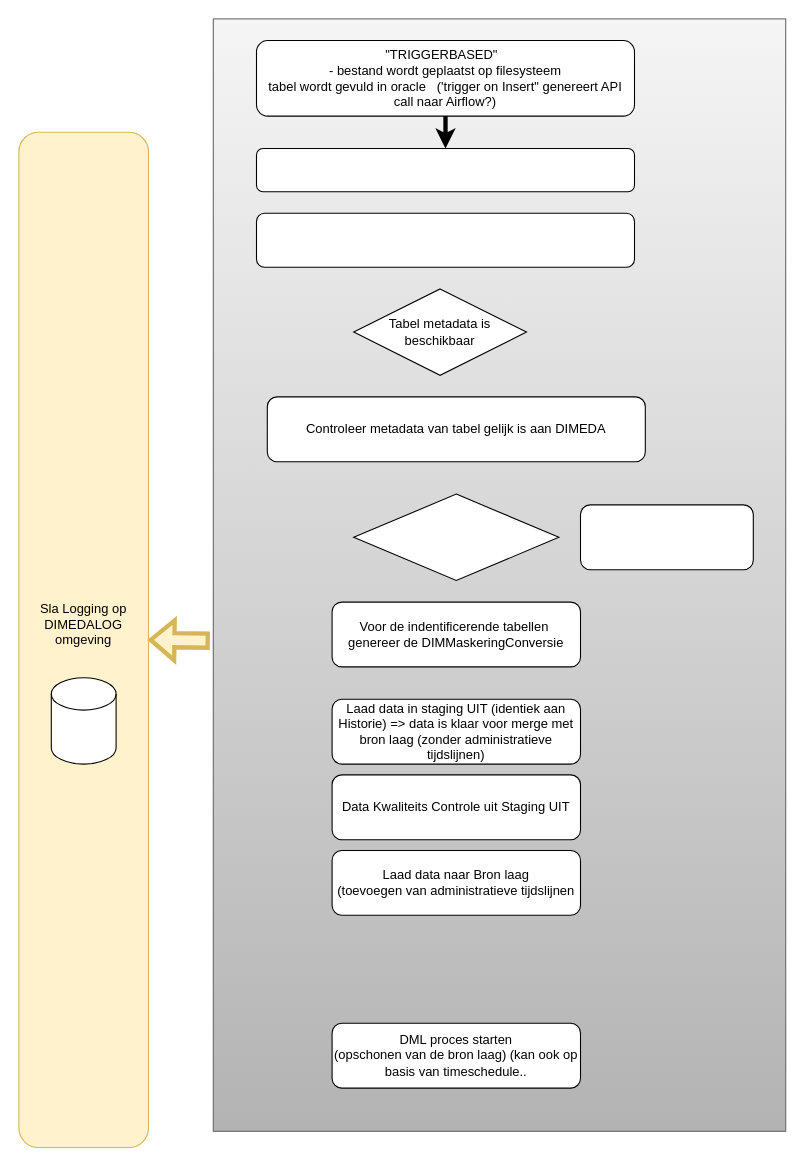
Image size: 805x1166. Some labels were removed from this diagram. Each missing label, with the centre of its shape:
Check Data of deze beschikbaar is in DIMEDA (Data Ingestions MEtaDAta: point 444,239
Genereer DDL script (create / alter): point 666,537
Laad Data in Landing: point 444,169
Tabel structuur is correct aanwezig: point 456,536
